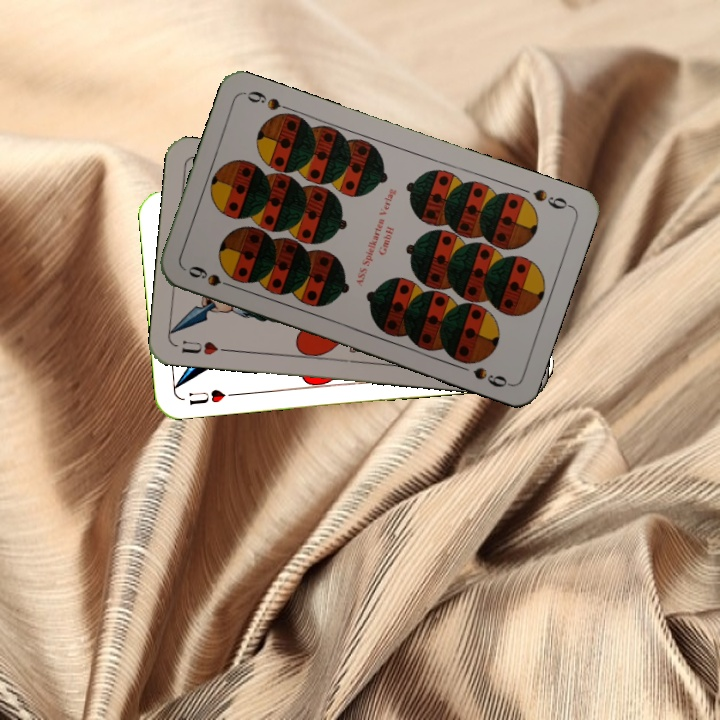HU: (184, 385, 238, 408), (178, 336, 232, 358)
S9: (184, 262, 239, 292), (529, 185, 574, 212)
